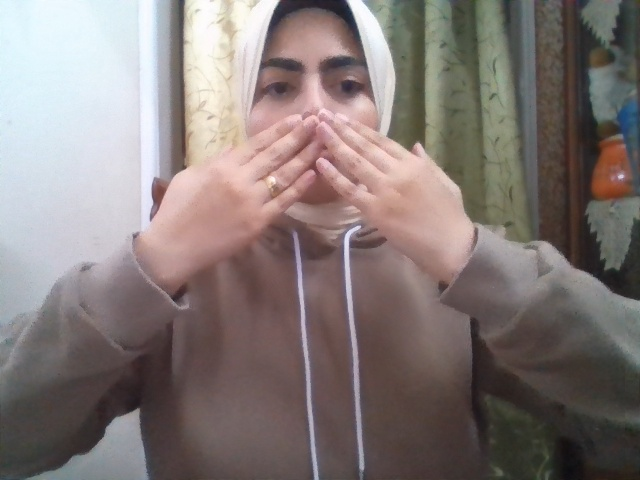thanks: (148, 108, 470, 271)
